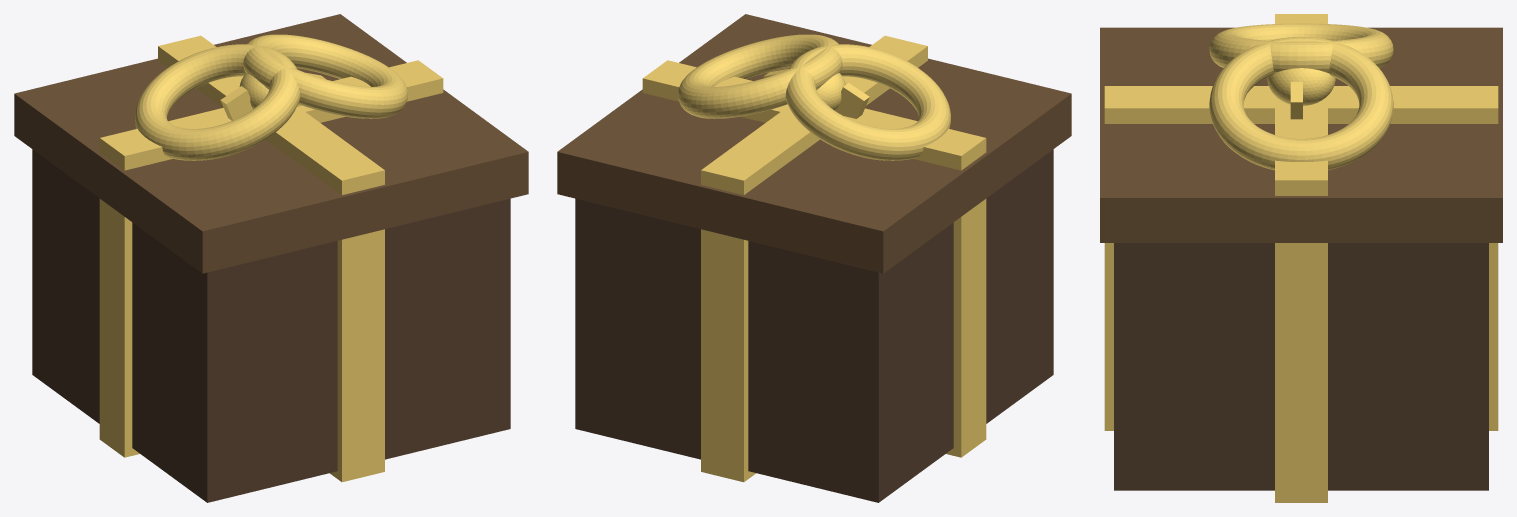
The model's file is gift-box.glb.
3 renders of one model, left to right at view 1: azimuth 30°, elevation 25°; view 2: azimuth 150°, elevation 25°; view 3: azimuth 270°, elevation 25°, orthographic. The views are drawn at different scales.
Visible parts, largest first — view 1: GiftBox_Base, GiftBox_Lid, Ribbon_Vertical, Ribbon_Horizontal, Bow_Left, Bow_Right, Ribbon_Tail_Left; view 2: GiftBox_Base, GiftBox_Lid, Ribbon_Vertical, Ribbon_Horizontal, Bow_Left, Bow_Right, Ribbon_Tail_Left, Bow_Knot; view 3: GiftBox_Base, GiftBox_Lid, Ribbon_Horizontal, Ribbon_Vertical, Bow_Right, Bow_Left, Bow_Knot, Ribbon_Tail_Right.
Boxes of the visible parts, box(x1,y1,x2,y2) form: GiftBox_Base: box(32, 149, 510, 502); GiftBox_Lid: box(14, 14, 528, 273); Ribbon_Vertical: box(158, 35, 384, 482); Ribbon_Horizontal: box(99, 60, 443, 457); Bow_Left: box(135, 44, 300, 160); Bow_Right: box(243, 34, 407, 118); Ribbon_Tail_Left: box(220, 86, 252, 120); GiftBox_Base: box(575, 149, 1053, 502); GiftBox_Lid: box(557, 14, 1071, 273); Ribbon_Vertical: box(701, 35, 927, 482); Ribbon_Horizontal: box(642, 60, 986, 457); Bow_Left: box(785, 44, 950, 160); Bow_Right: box(678, 34, 842, 118); Ribbon_Tail_Left: box(835, 83, 869, 118); Bow_Knot: box(816, 73, 845, 110); GiftBox_Base: box(1114, 243, 1488, 490); GiftBox_Lid: box(1100, 27, 1502, 242); Ribbon_Horizontal: box(1275, 14, 1327, 502); Ribbon_Vertical: box(1104, 86, 1498, 430); Bow_Right: box(1209, 36, 1393, 170); Bow_Left: box(1209, 23, 1393, 72); Bow_Knot: box(1267, 68, 1335, 105); Ribbon_Tail_Right: box(1290, 81, 1302, 119).
Bounding box in the file's own units: 2.58 × 2.68 × 2.58.
